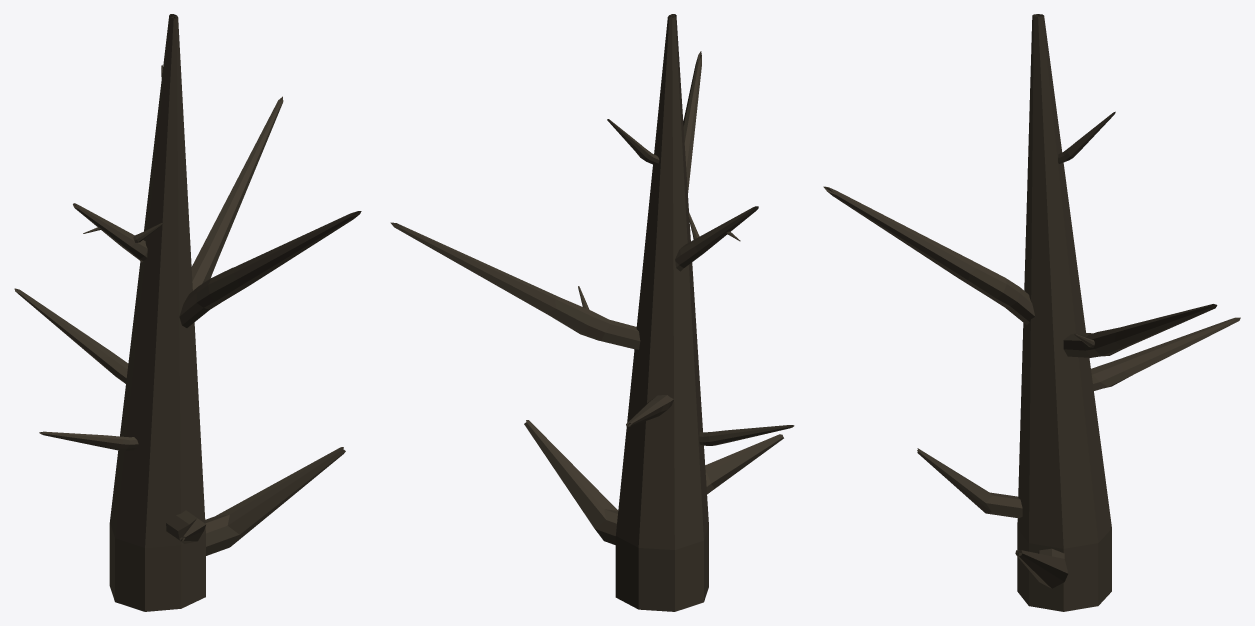
The model's file is deadtree.glb.
3 renders of one model, left to right at view 1: azimuth 30°, elevation 25°; view 2: azimuth 150°, elevation 25°; view 3: azimuth 270°, elevation 25°, orthographic. The views are drawn at different scales.
Parts seen in each view (by area): view 1: Cube, Cube.003, Cube.016, Cube.002, Cube.014, Cube.011, Cube.017, Cube.015; view 2: Cube, Cube.002, Cube.016, Cube.015, Cube.011, Cube.003, Cube.017, Cube.014; view 3: Cube, Cube.003, Cube.002, Cube.014, Cube.015, Cube.016, Cube.013.
Boxes of the visible parts, box(x1,y1,x2,y2) form: Cube: box(109, 14, 205, 611); Cube.003: box(179, 211, 361, 327); Cube.016: box(205, 447, 345, 555); Cube.002: box(191, 96, 283, 290); Cube.014: box(14, 288, 128, 383); Cube.011: box(73, 203, 147, 262); Cube.017: box(39, 431, 138, 450); Cube.015: box(166, 510, 206, 543); Cube: box(615, 14, 708, 611); Cube.002: box(390, 222, 640, 349); Cube.016: box(524, 420, 618, 544); Cube.015: box(705, 434, 783, 494); Cube.011: box(675, 206, 758, 271); Cube.003: box(683, 51, 701, 192); Cube.017: box(699, 425, 794, 445); Cube.014: box(626, 395, 673, 426); Cube: box(1017, 14, 1111, 611); Cube.003: box(823, 186, 1034, 324); Cube.002: box(1063, 304, 1217, 357); Cube.014: box(1091, 317, 1240, 390); Cube.015: box(917, 448, 1022, 518); Cube.016: box(1015, 548, 1068, 588); Cube.013: box(1058, 111, 1115, 163).
Size of what is drawn, in the model's own units: 10.85 by 18.32 by 12.02.
2 materials, 2 textured.
